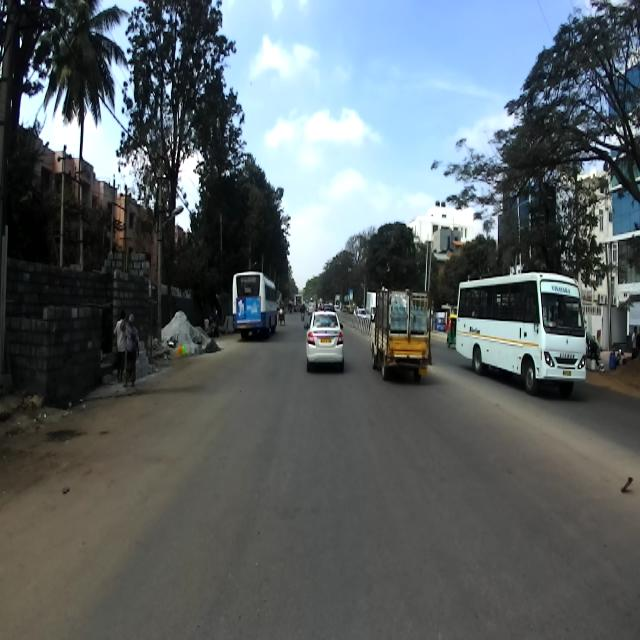bus ahead at: (452, 278, 592, 401), (232, 269, 282, 340)
car ahead at: (364, 281, 439, 382), (304, 310, 351, 363)
person ahead at: (108, 306, 140, 406)
